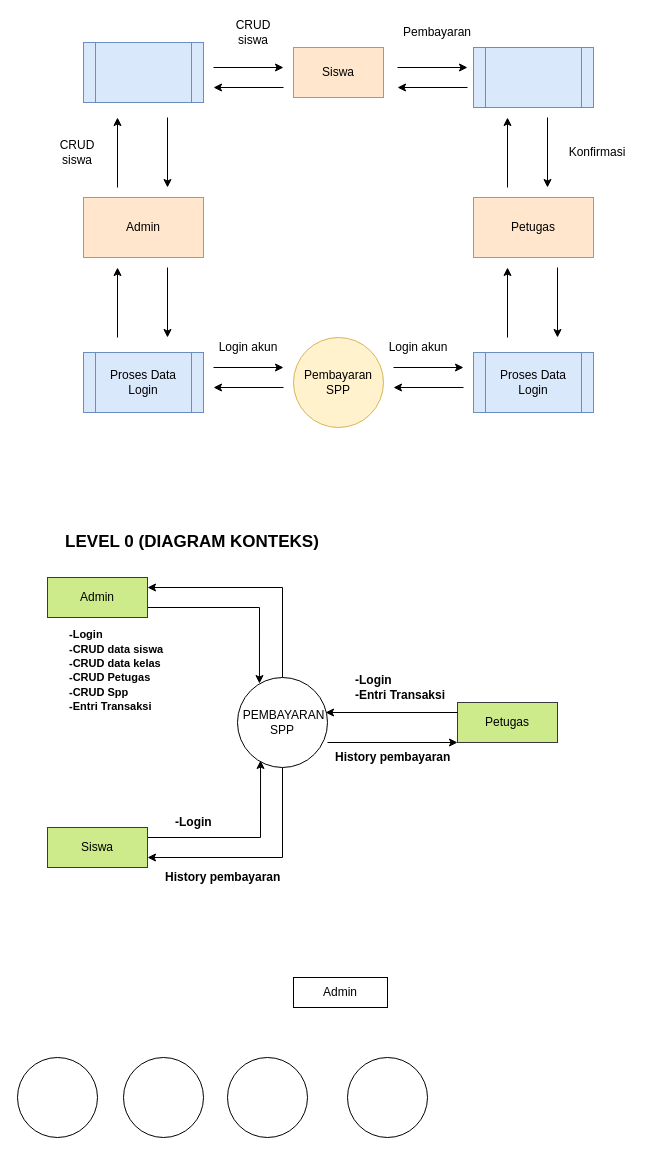
The diagram is 645 pixels wide and 1155 high, and some of its shapes have lost their labels. Here are the shapes that lost their labels. From the top down, the centre of each, then its label:
At (143,72): "Proses Data Siswa".
At (533,77): "Proses transaksi".
